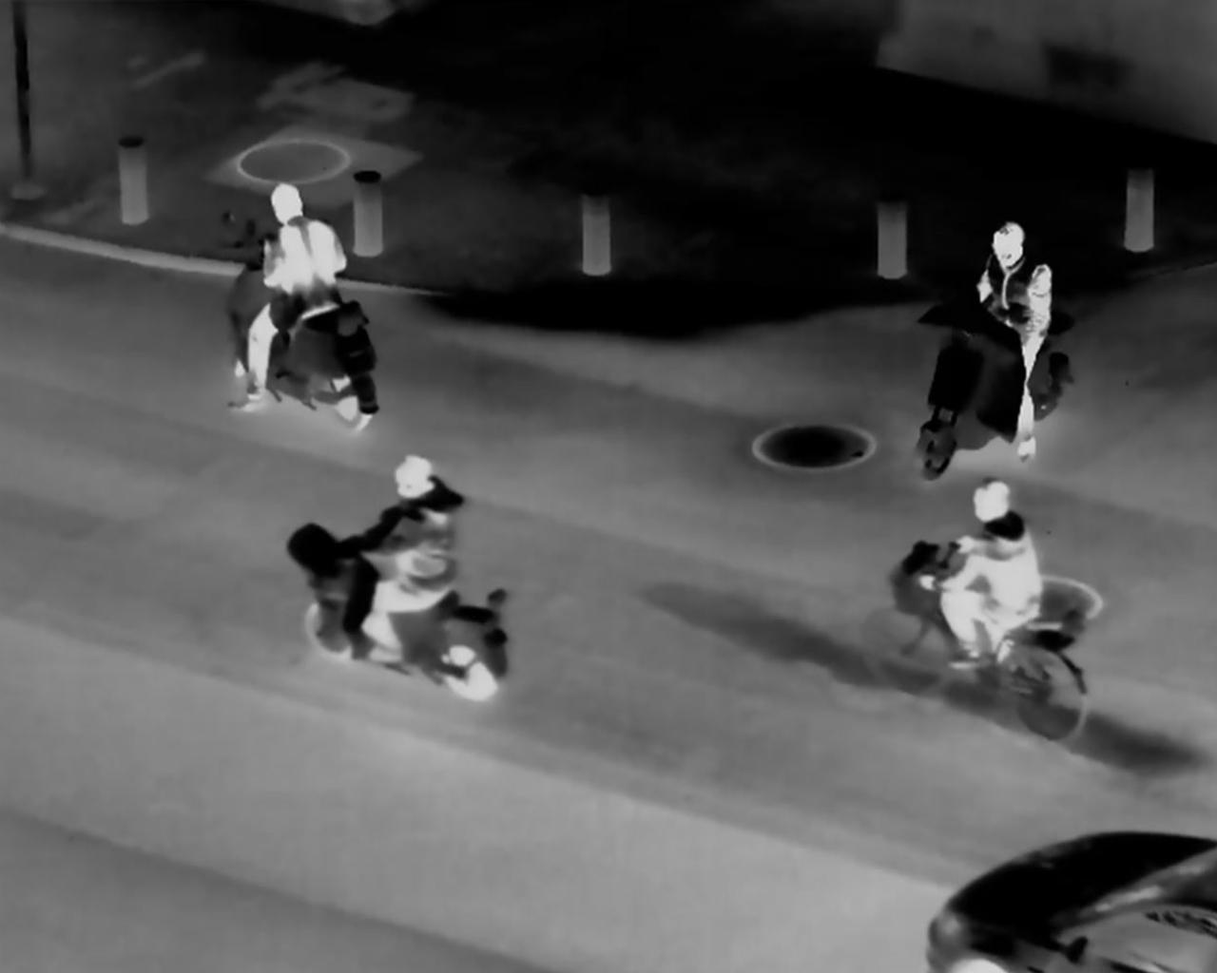person: (332, 448, 468, 671), (246, 173, 355, 418), (958, 218, 1053, 474), (921, 466, 1040, 657)
